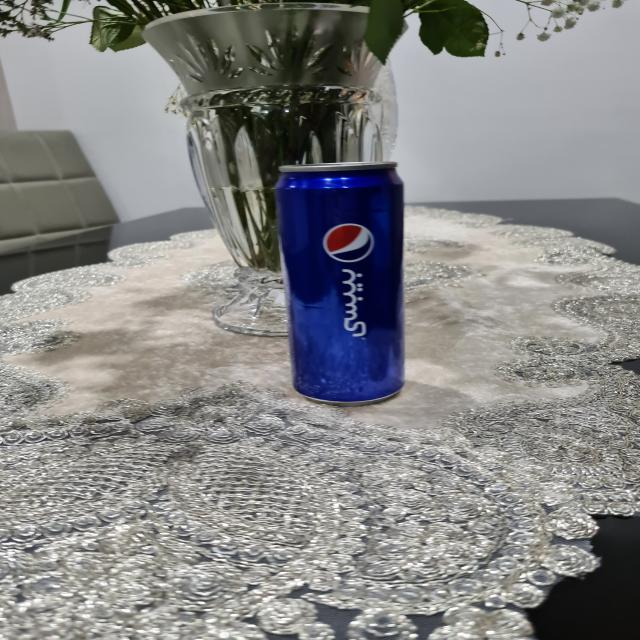non-organic waste: (259, 159, 422, 410)
